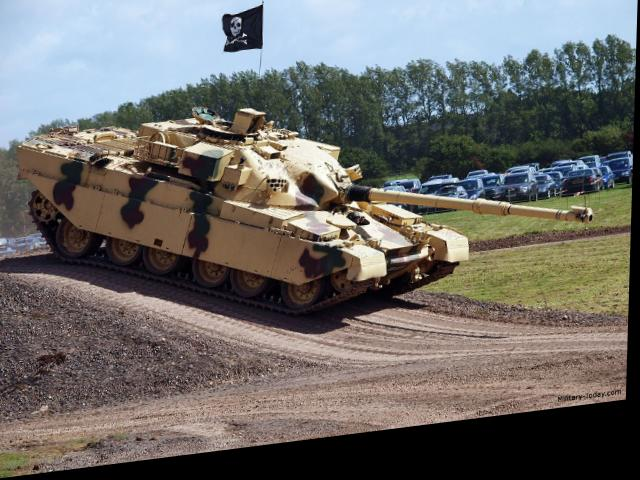other: (9, 71, 482, 365)
